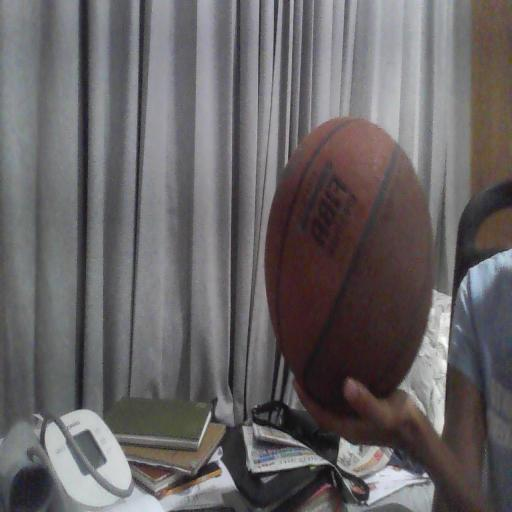basketball: (265, 118, 433, 413)
